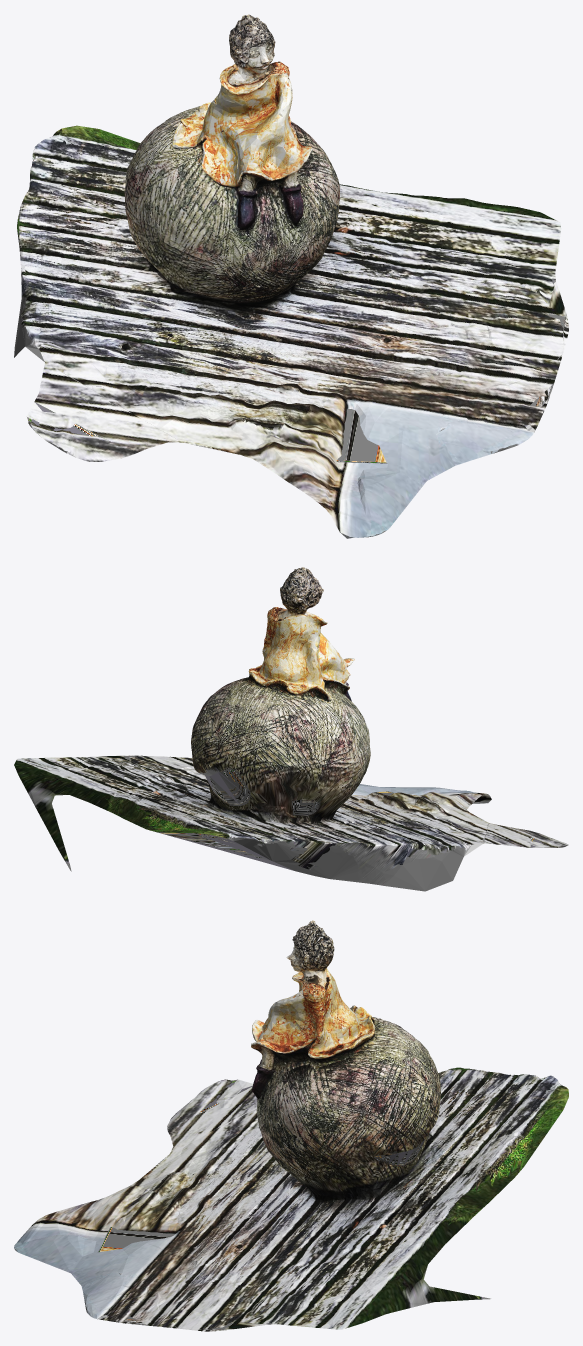
The model's file is goudenGirlOnBall ori.obj.
3 views of the same model, one above another, from view 1: azimuth 30°, elevation 25°; view 2: azimuth 150°, elevation 25°; view 3: azimuth 270°, elevation 25° (orthographic). The views are drawn at different scales.
Size of the model in its own units: 27.3 by 17.01 by 24.84.
Materials: 10 (6 with a texture image).
